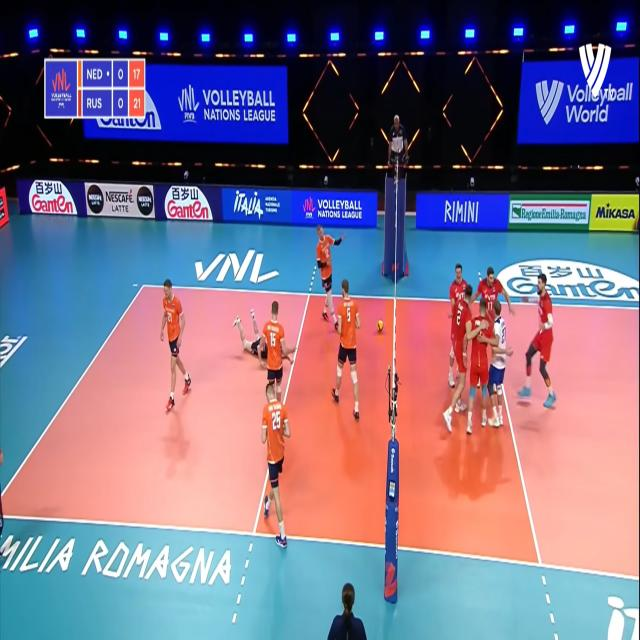player: (258, 381, 296, 546), (156, 277, 194, 424), (524, 276, 560, 413), (260, 295, 301, 397), (336, 274, 360, 424), (467, 297, 492, 435), (315, 223, 344, 336), (488, 300, 510, 427), (451, 285, 469, 433), (474, 268, 511, 326), (449, 263, 474, 317)
